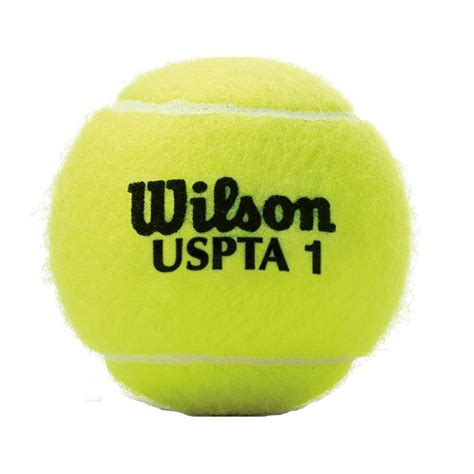tennis_ball: (37, 56, 422, 417)
